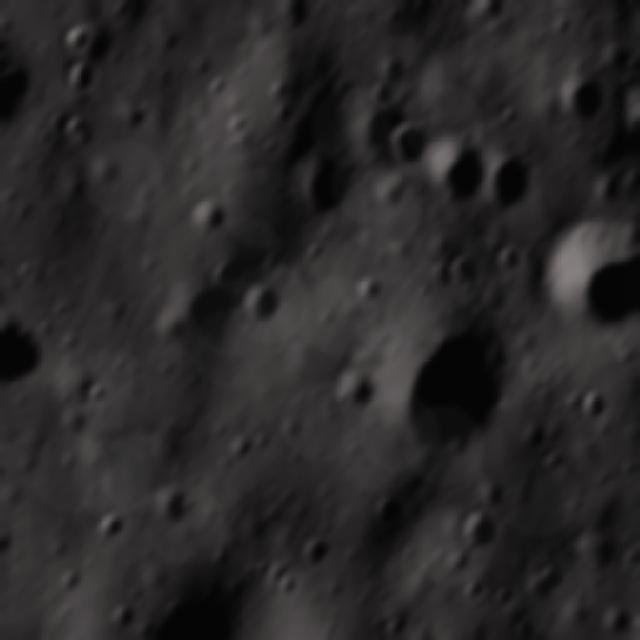crater: (382, 320, 516, 457), (544, 208, 640, 346), (0, 320, 51, 400), (184, 284, 242, 350), (478, 152, 534, 218), (432, 144, 486, 204), (555, 76, 611, 132), (300, 163, 352, 215), (384, 123, 436, 174), (456, 508, 512, 555), (571, 533, 624, 581), (152, 483, 202, 532), (522, 557, 566, 608), (244, 287, 282, 342), (189, 192, 234, 235), (367, 490, 407, 538), (618, 85, 640, 162), (445, 256, 484, 299), (97, 504, 134, 547), (339, 374, 378, 414), (61, 21, 99, 62), (62, 62, 98, 102), (300, 534, 337, 568), (271, 576, 304, 607), (411, 632, 451, 640)
